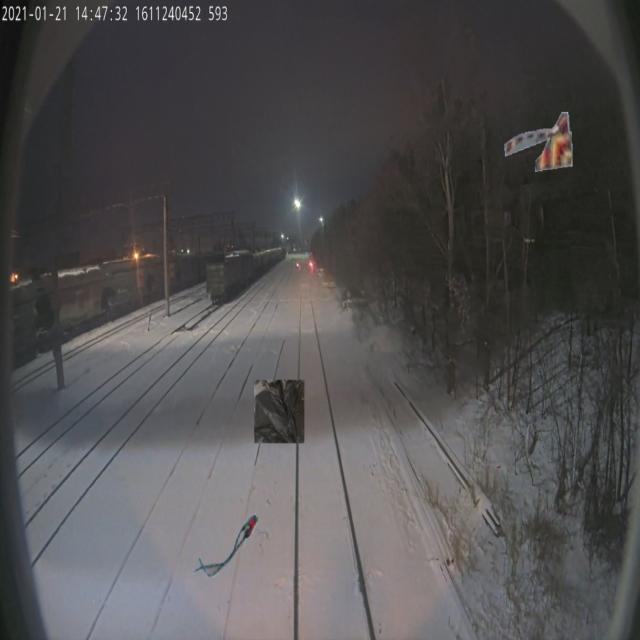floating object: (504, 109, 578, 172), (192, 513, 260, 577)
plastic bag: (254, 379, 304, 444)
